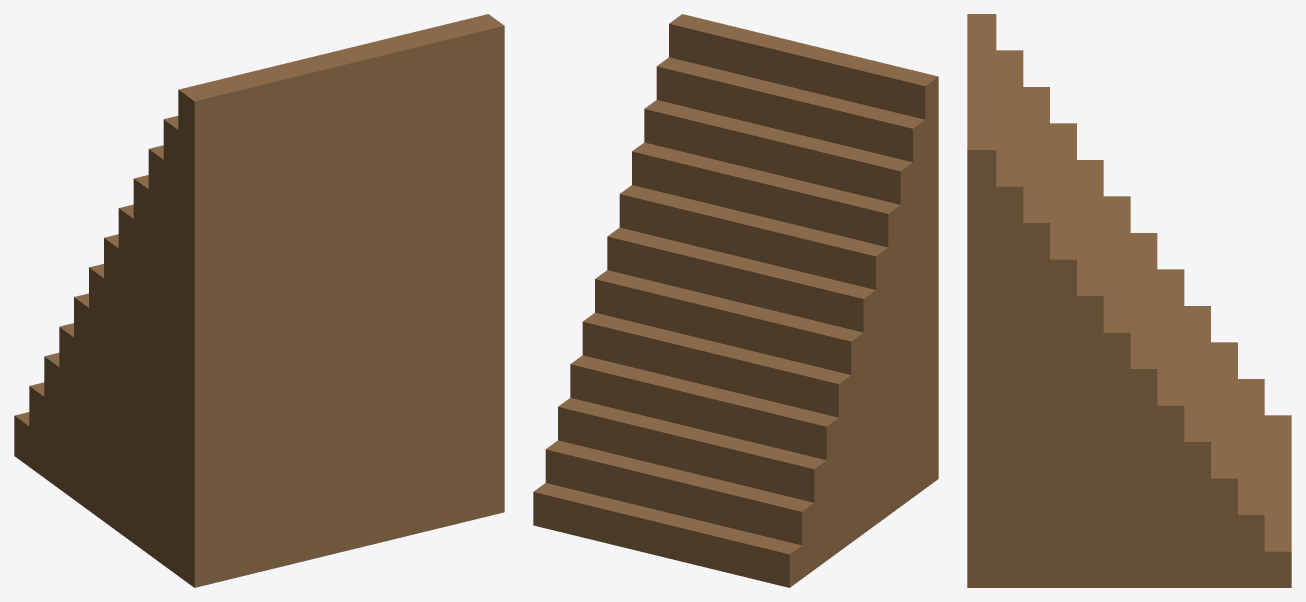
File: harbor-stairs.lod0.glb
3 views of the same model, side by side, from view 1: azimuth 30°, elevation 25°; view 2: azimuth 150°, elevation 25°; view 3: azimuth 270°, elevation 25° (orthographic). The views are drawn at different scales.
Parts seen in each view (by area): view 1: harbor-stairs__body; view 2: harbor-stairs__body; view 3: harbor-stairs__body.
Part boxes in pixels (left/top/right/bottom): harbor-stairs__body: left=14, top=14, right=504, bottom=587; harbor-stairs__body: left=533, top=14, right=938, bottom=587; harbor-stairs__body: left=967, top=14, right=1291, bottom=587.
Size of the model in its own units: 2 by 3 by 2.01.
